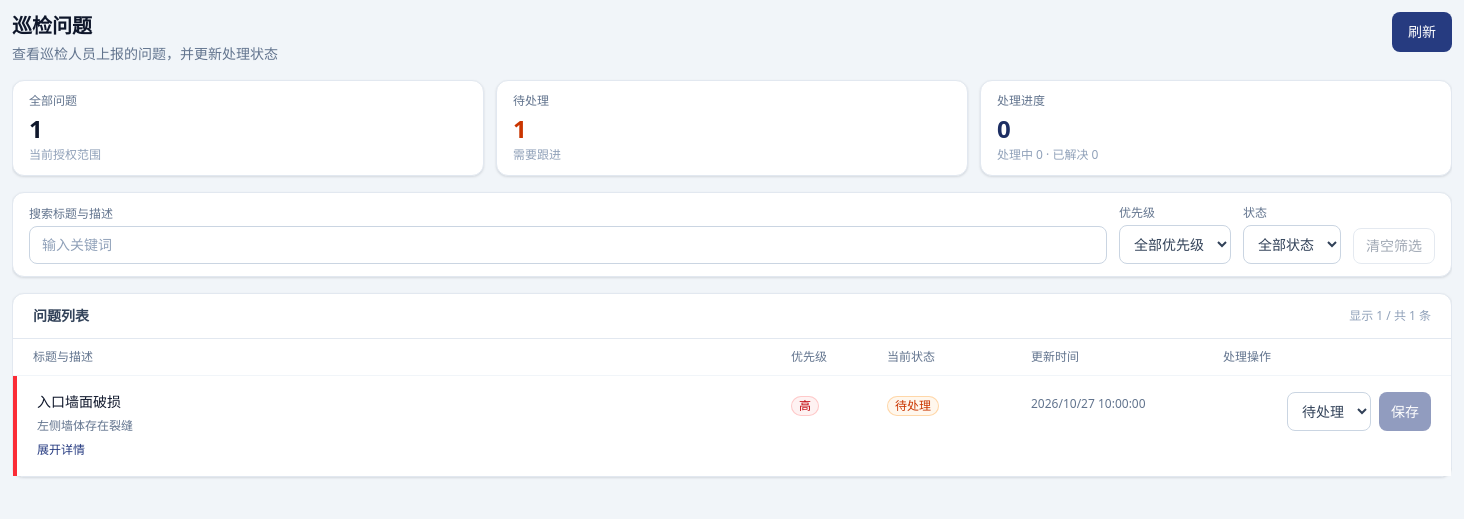
Test: 实时事件合并（事件序） › 远端更新目标行时当前状态更新，未保存草稿保留并提示
The width and height of the screenshot is (1464, 519).
Expected: the heading "入口墙面破损" is shown, top-left (37, 392), bottom-right (121, 411)
用户选择 resolved 但未保存，远端把它改成 in_progress
Select "已解决" in the dropdown named "修改问题「入口墙面破损」的处理状态". click: (1329, 412)
box: top-left (1287, 392), bottom-right (1371, 431)
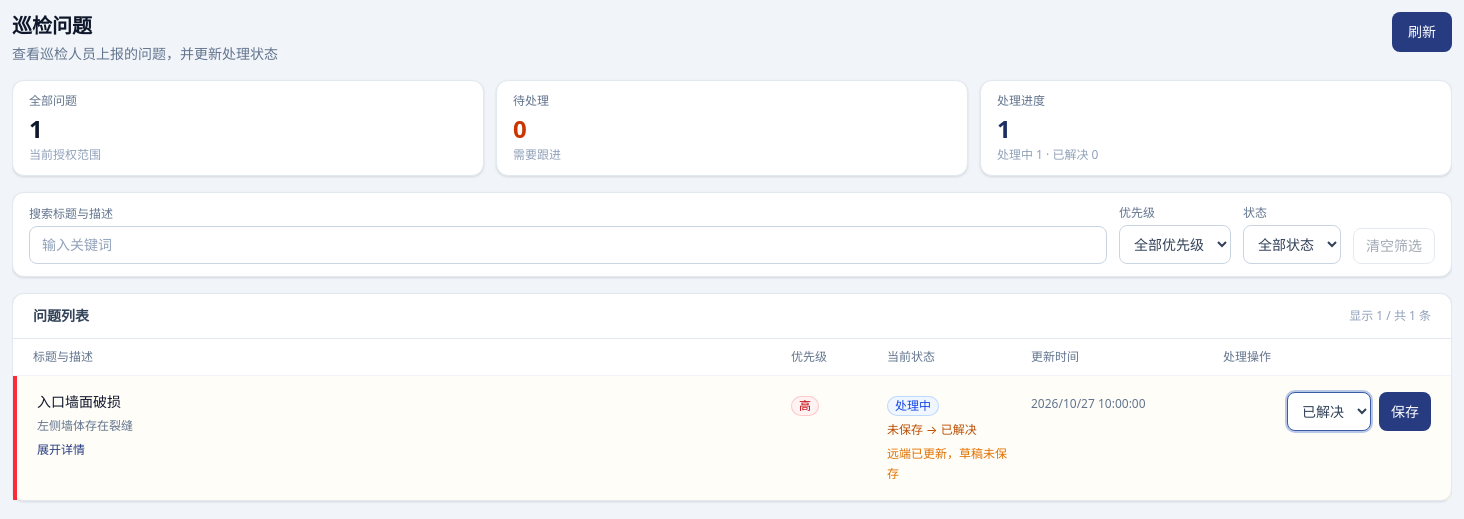
Now the text "处理中" is shown, box top-left (887, 396), bottom-right (939, 416)
Now the text "远端已更新，草稿未保存" is shown, box top-left (887, 444), bottom-right (1007, 484)
